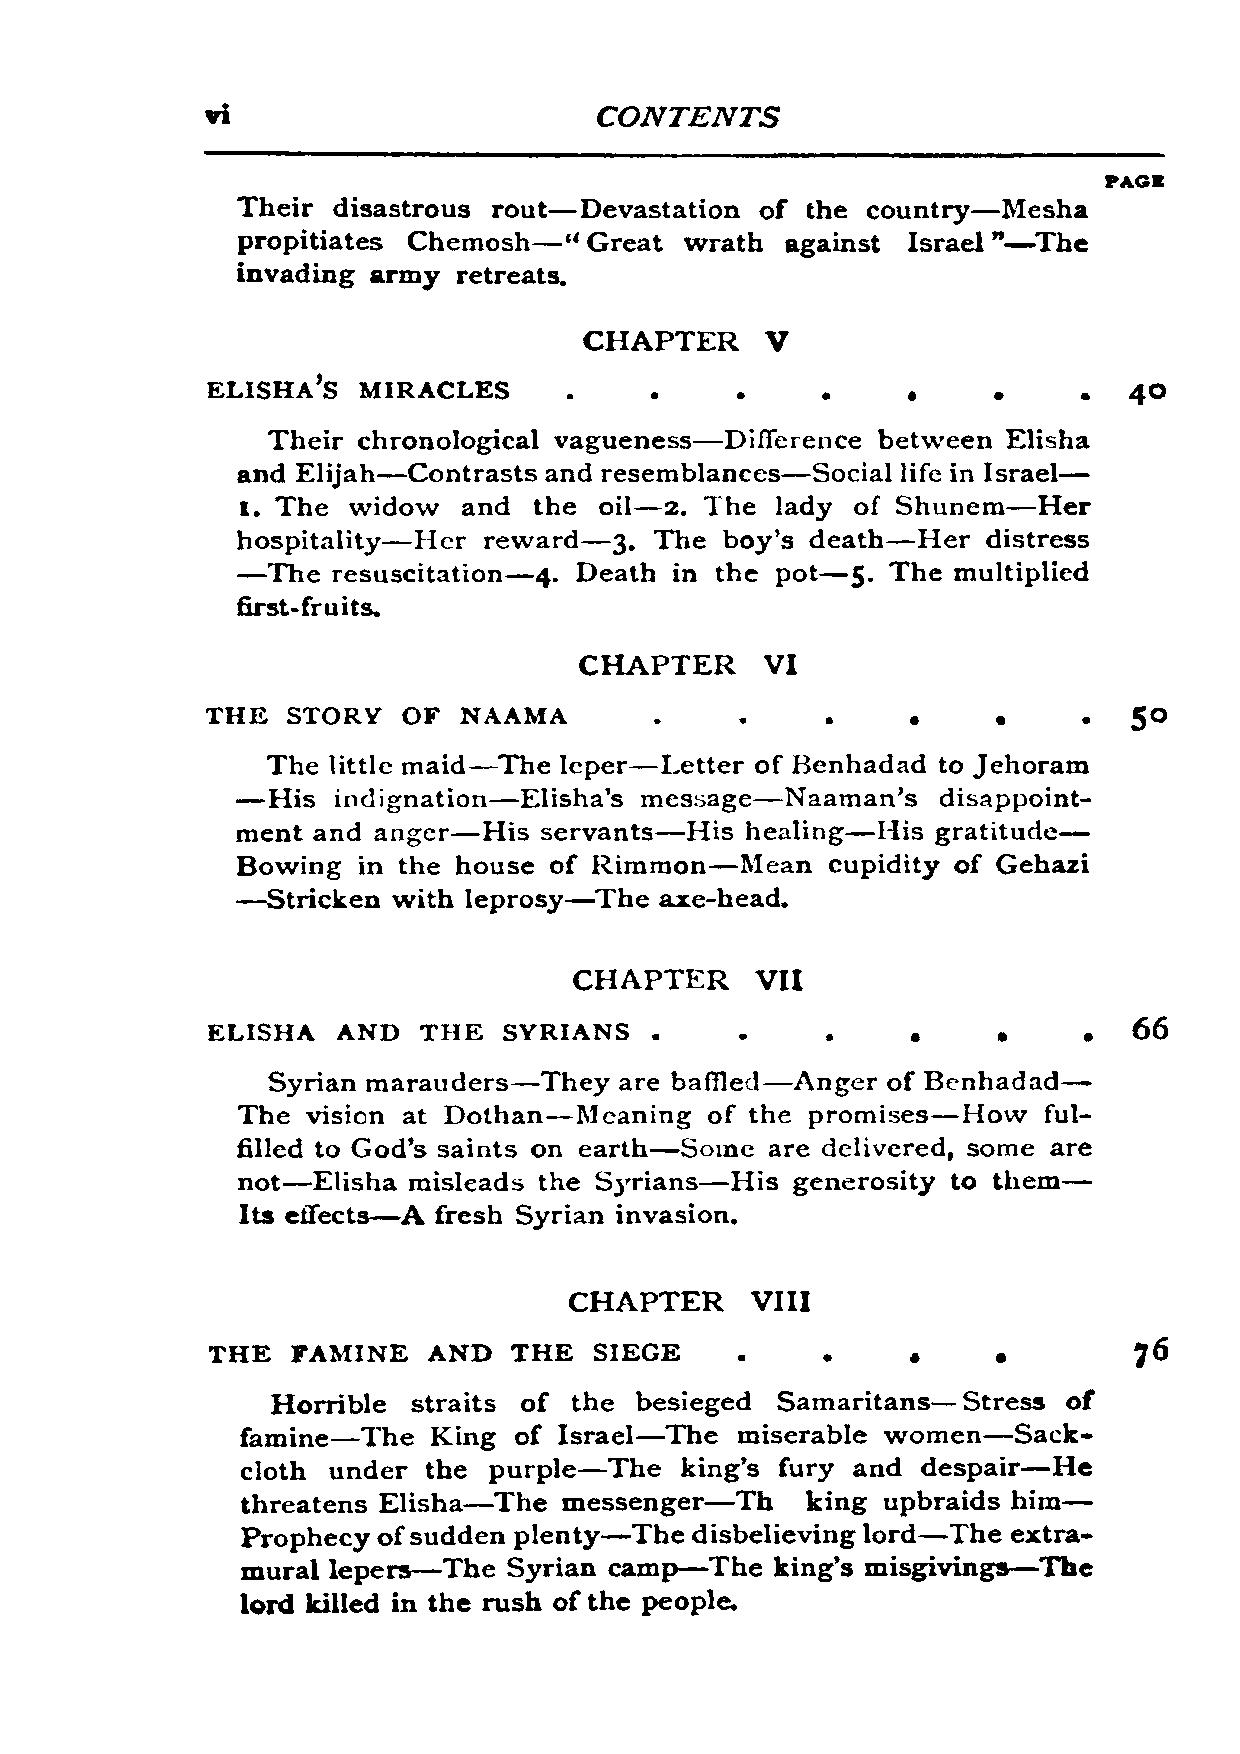TOC_chapter: (196, 1335, 1106, 1636), (189, 372, 1096, 625), (192, 695, 1108, 930), (199, 1011, 1111, 1243), (219, 178, 1099, 294), (565, 956, 812, 1000), (562, 1280, 827, 1318), (574, 641, 807, 683), (570, 317, 794, 360)
TOC_pagenumber: (1125, 1329, 1177, 1373), (1130, 690, 1173, 743), (1125, 365, 1170, 413), (1130, 1008, 1173, 1045)
chapter: (589, 97, 782, 136)
